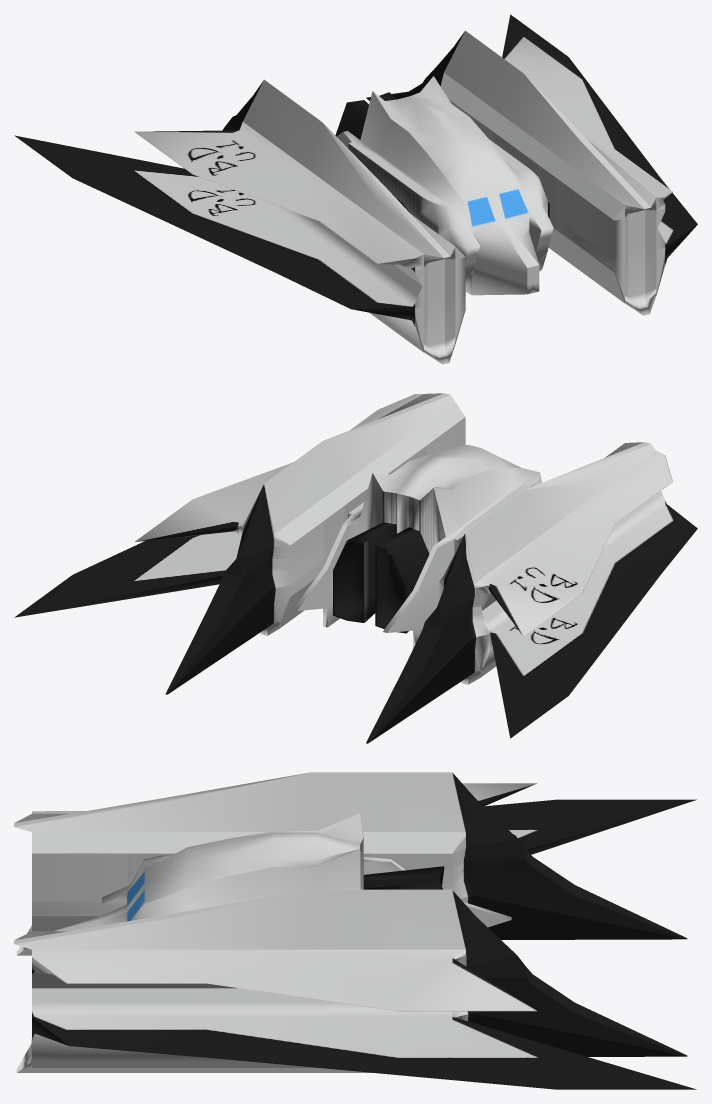
The model's file is Dog medium.obj.
The picture shows the model from 3 angles, top to bottom: view 1: azimuth 30°, elevation 25°; view 2: azimuth 150°, elevation 25°; view 3: azimuth 270°, elevation 25°; orthographic projection. The views are drawn at different scales.
Visible parts, largest first — view 1: medium_ship; view 2: medium_ship; view 3: medium_ship.
Boxes of the visible parts, box(x1,y1,x2,y2) form: medium_ship: box(14, 14, 697, 364); medium_ship: box(14, 393, 697, 743); medium_ship: box(14, 772, 696, 1089).
Bounding box in the file's own units: 47.33 × 13.79 × 47.14.
